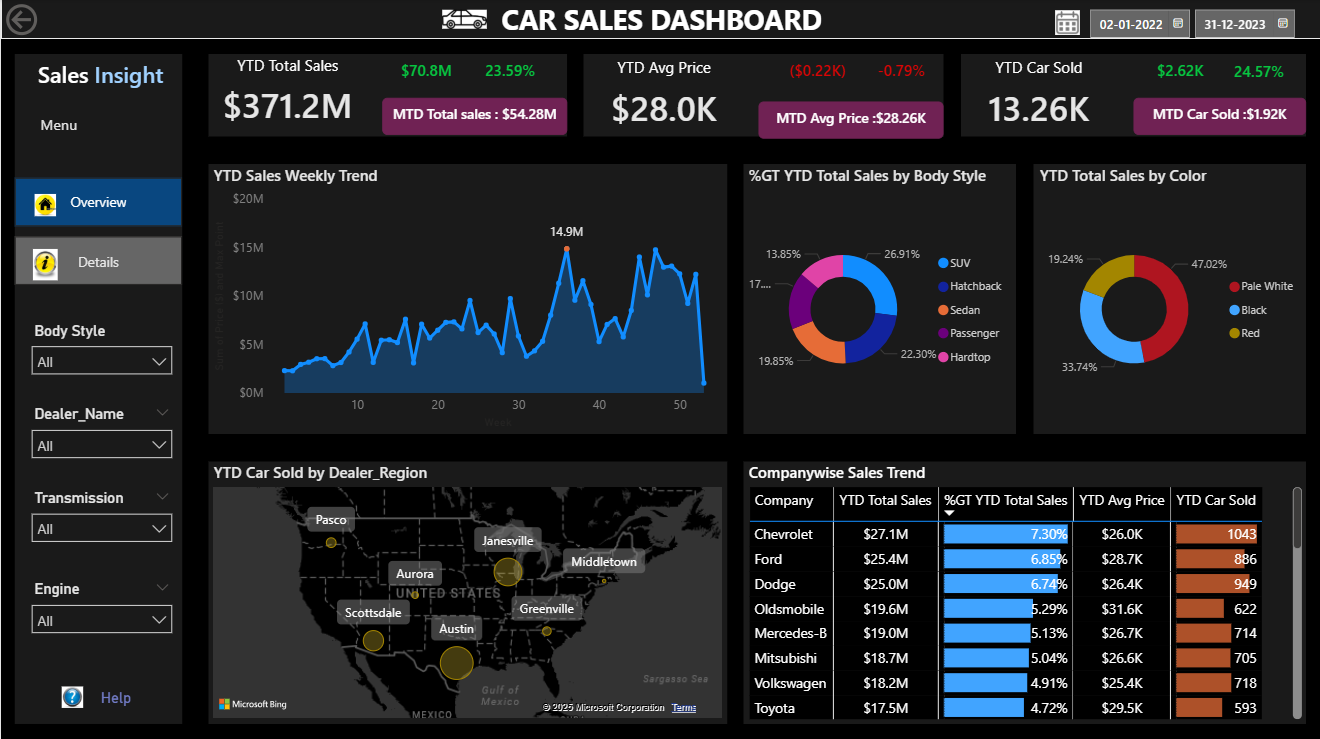

This screenshot's page, from the dashboard's own definition file:
{"tool":"powerbi","page":{"name":"Overview","canvas":[1280,720],"ordinal":0},"visuals":[{"type":"shape","box":[200.9,53.3,347.4,79.9],"z":0},{"type":"shape","box":[929.7,53.3,334.1,79.9],"z":1000},{"type":"shape","box":[564.1,53.3,348.6,79.9],"z":2000},{"type":"shape","box":[200.9,159.8,502.4,261.5],"z":3000},{"type":"shape","box":[719,159.8,263.9,261.5],"z":4000},{"type":"shape","box":[999.9,159.8,263.9,261.5],"z":5000},{"type":"shape","box":[200.9,447.9,502.4,254.2],"z":6000},{"type":"shape","box":[719,447.9,544.7,254.2],"z":7000},{"type":"shape","box":[13.3,53.3,162.2,648.8],"z":8000},{"type":"shape","box":[0,0,1279.5,38.7],"z":9000},{"type":"card","title":"YTD Total Sales","fields":{"Values":["Calendar Table.YTD Total Sales"]},"box":[186.4,53.3,182.8,79.9],"z":10000},{"type":"card","fields":{"Values":["Calendar Table.Sales Diffrence"]},"box":[371.6,53.3,81.1,36.3],"z":11000},{"type":"card","fields":{"Values":["Calendar Table.YOY Sales Growth"]},"box":[452.7,53.3,81.1,36.3],"z":12000},{"type":"card","fields":{"Values":["Calendar Table.MTD KPI"]},"box":[369.2,95.6,179.2,36],"z":13000},{"type":"card","title":"YTD Avg Price","fields":{"Values":["Calendar Table.YTD Avg Price"]},"box":[550.8,55.7,182.8,79.9],"z":14000},{"type":"card","fields":{"Values":["Calendar Table.Avg Sales Diffrence"]},"box":[750.5,53.3,81.1,36.3],"z":15000},{"type":"card","fields":{"Values":["Calendar Table.YOY Avg Sales Growth"]},"box":[831.6,53.3,81.1,36.3],"z":16000},{"type":"card","fields":{"Values":["Calendar Table.MTD Avg KPI"]},"box":[733.6,99.3,179.2,36.3],"z":17000},{"type":"card","title":"YTD Car Sold","fields":{"Values":["car_data.YTD Car Sold"]},"box":[913.9,55.7,182.8,79.9],"z":18000},{"type":"card","fields":{"Values":["Calendar Table.MTD Car Sold KPI"]},"box":[1096.7,95.6,167,36.3],"z":19000},{"type":"card","fields":{"Values":["car_data.Car Sold Diff"]},"box":[1101.2,53.3,81.2,36.3],"z":20000},{"type":"card","fields":{"Values":["car_data.YOY Car sold Growth"]},"box":[1177.5,55.7,81.2,33.9],"z":21000},{"type":"areaChart","title":"YTD Sales Weekly Trend","fields":{"Category":["Calendar Table.Week"],"Y":["Sum(car_data.Price ($))","car_data.Max Point"]},"box":[201.1,159.9,502.7,261.7],"z":22000},{"type":"donutChart","fields":{"Category":["car_data.Body Style"],"Y":["Calendar Table.YTD Total Sales"]},"box":[719.6,159.9,264.1,261.7],"z":23000},{"type":"donutChart","fields":{"Category":["car_data.Color"],"Y":["Calendar Table.YTD Total Sales"]},"box":[1000.6,159.9,264.1,261.7],"z":24000},{"type":"map","fields":{"Category":["car_data.Dealer_Region"],"Size":["car_data.YTD Car Sold"]},"box":[200.9,447.9,502.4,254.2],"z":25000},{"type":"tableEx","title":"Companywise Sales Trend","fields":{"Values":["car_data.Company","Calendar Table.YTD Total Sales1","Calendar Table.YTD Total Sales","Calendar Table.YTD Avg Price","car_data.YTD Car Sold"]},"box":[719,447.9,545.9,254.2],"z":26000},{"type":"actionButton","box":[0,0,100,40],"z":27000},{"type":"slicer","fields":{"Values":["car_data.Body Style"]},"box":[19.4,307.5,156.2,81.1],"z":28000},{"type":"slicer","fields":{"Values":["car_data.Dealer_Name"]},"box":[19.4,388.6,156.2,81.1],"z":29000},{"type":"slicer","fields":{"Values":["car_data.Transmission"]},"box":[19.4,469.7,156.2,88.4],"z":30000},{"type":"slicer","fields":{"Values":["car_data.Engine"]},"box":[19.4,558,156.2,81.1],"z":31000},{"type":"textbox","box":[13.3,53.3,162.2,42.4],"z":32000},{"type":"textbox","box":[23,99.3,71.4,46],"z":33000},{"type":"pageNavigator","box":[13.3,173.1,162.2,104.1],"z":34000},{"type":"image","box":[13.3,184,59.3,31.5],"z":35000},{"type":"image","box":[13.3,237.3,59.3,39.9],"z":36000},{"type":"textbox","box":[23,660.9,152.5,30.3],"z":37000},{"type":"image","box":[43.6,660.9,50.8,30.3],"z":38000},{"type":"slicer","fields":{"Values":["car_data.Date"]},"box":[1042.2,0,221.5,38.7],"z":39000},{"type":"image","box":[1014.4,6.1,37.5,33.9],"z":40000},{"type":"image","box":[422.5,0,53.3,39.9],"z":41000}]}

Visuals, with their boxes on the page's 1280x720 design canvas (x1, y1, x2, y2). These are canvas units, not pixel positions in the 1320x739 screenshot, which may show the page scaled, cropped or inside an application window:
shape: bbox=[201, 53, 548, 133]
shape: bbox=[930, 53, 1264, 133]
shape: bbox=[564, 53, 913, 133]
shape: bbox=[201, 160, 703, 421]
shape: bbox=[719, 160, 983, 421]
shape: bbox=[1000, 160, 1264, 421]
shape: bbox=[201, 448, 703, 702]
shape: bbox=[719, 448, 1264, 702]
shape: bbox=[13, 53, 176, 702]
shape: bbox=[0, 0, 1280, 39]
"YTD Total Sales" card: bbox=[186, 53, 369, 133]
card - Calendar Table.Sales Diffrence: bbox=[372, 53, 453, 90]
card - Calendar Table.YOY Sales Growth: bbox=[453, 53, 534, 90]
card - Calendar Table.MTD KPI: bbox=[369, 96, 548, 132]
"YTD Avg Price" card: bbox=[551, 56, 734, 136]
card - Calendar Table.Avg Sales Diffrence: bbox=[750, 53, 832, 90]
card - Calendar Table.YOY Avg Sales Growth: bbox=[832, 53, 913, 90]
card - Calendar Table.MTD Avg KPI: bbox=[734, 99, 913, 136]
"YTD Car Sold" card: bbox=[914, 56, 1097, 136]
card - Calendar Table.MTD Car Sold KPI: bbox=[1097, 96, 1264, 132]
card - car_data.Car Sold Diff: bbox=[1101, 53, 1182, 90]
card - car_data.YOY Car sold Growth: bbox=[1178, 56, 1259, 90]
"YTD Sales Weekly Trend" areaChart: bbox=[201, 160, 704, 422]
donutChart - car_data.Body Style x Calendar Table.YTD Total Sales: bbox=[720, 160, 984, 422]
donutChart - car_data.Color x Calendar Table.YTD Total Sales: bbox=[1001, 160, 1265, 422]
map - car_data.Dealer_Region x car_data.YTD Car Sold: bbox=[201, 448, 703, 702]
"Companywise Sales Trend" tableEx: bbox=[719, 448, 1265, 702]
actionButton: bbox=[0, 0, 100, 40]
slicer - car_data.Body Style: bbox=[19, 308, 176, 389]
slicer - car_data.Dealer_Name: bbox=[19, 389, 176, 470]
slicer - car_data.Transmission: bbox=[19, 470, 176, 558]
slicer - car_data.Engine: bbox=[19, 558, 176, 639]
textbox: bbox=[13, 53, 176, 96]
textbox: bbox=[23, 99, 94, 145]
pageNavigator: bbox=[13, 173, 176, 277]
image: bbox=[13, 184, 73, 216]
image: bbox=[13, 237, 73, 277]
textbox: bbox=[23, 661, 176, 691]
image: bbox=[44, 661, 94, 691]
slicer - car_data.Date: bbox=[1042, 0, 1264, 39]
image: bbox=[1014, 6, 1052, 40]
image: bbox=[422, 0, 476, 40]
